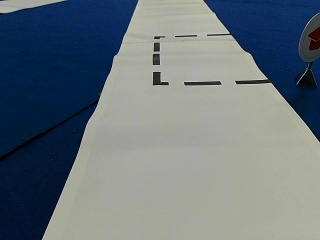school: (298, 13, 319, 61)
